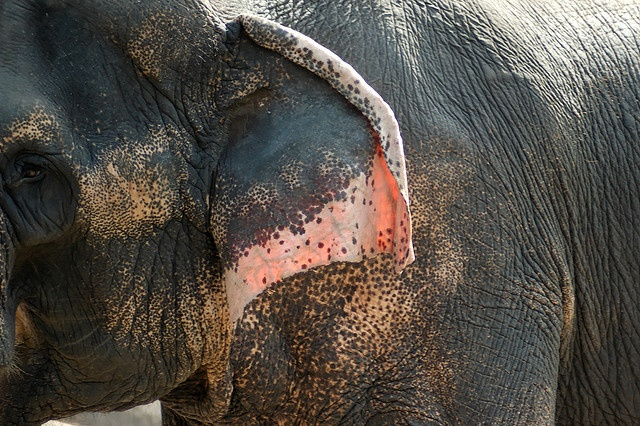elephant: (1, 1, 639, 424)
